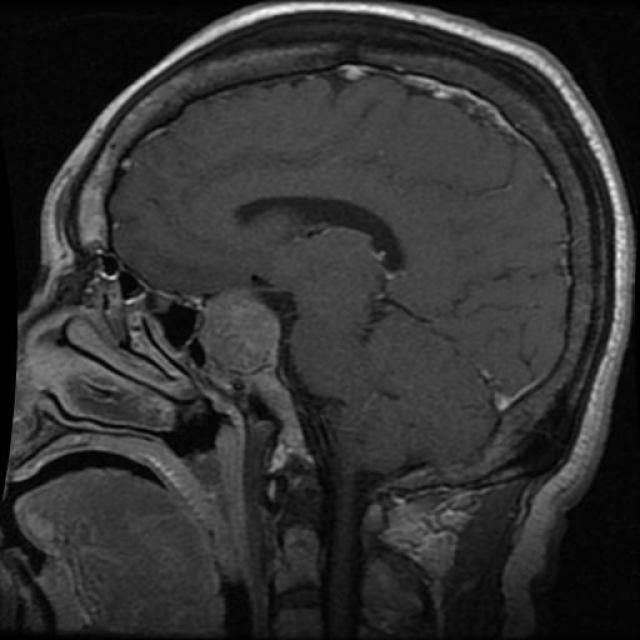pituitary: (178, 290, 298, 380)
